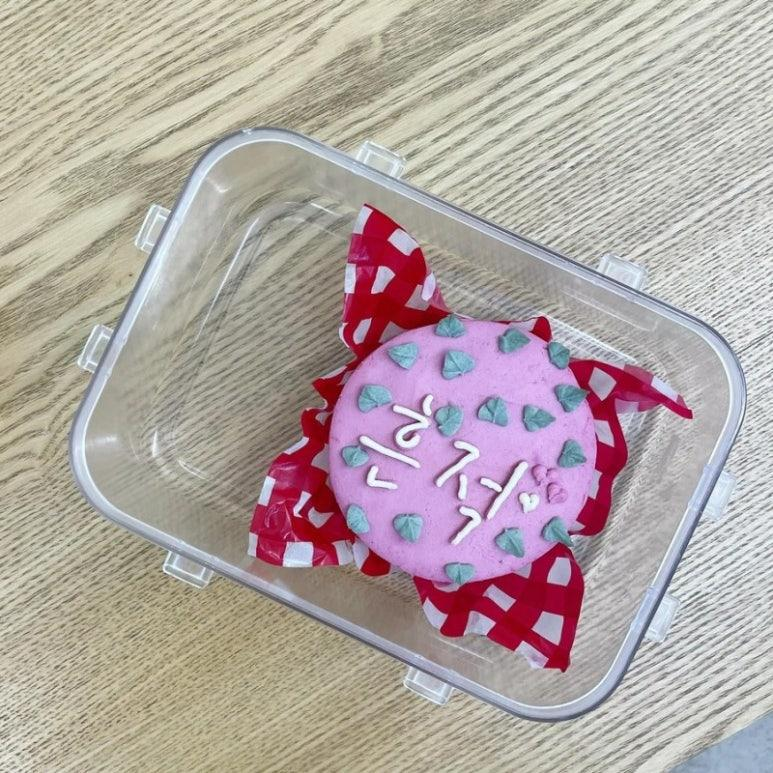Lunch Box: (69, 128, 745, 720)
